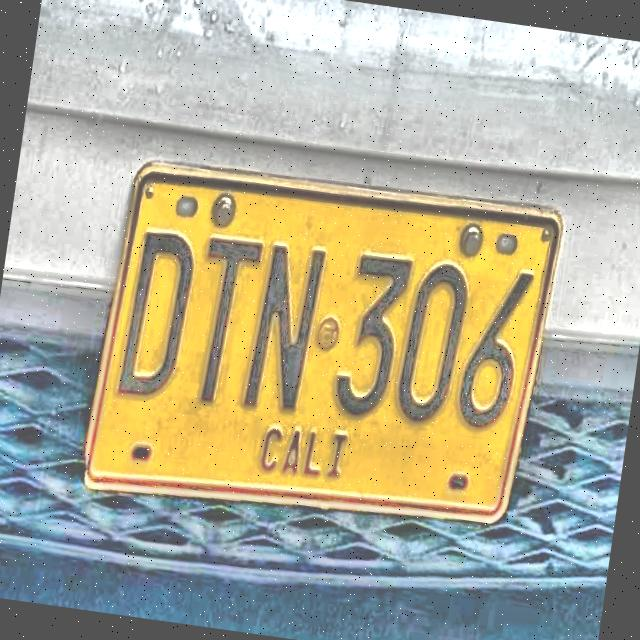0: (392, 256, 476, 434)
3: (329, 247, 415, 426)
6: (451, 261, 534, 436)
D: (114, 225, 202, 408)
N: (241, 239, 330, 416)
T: (182, 232, 266, 410)
